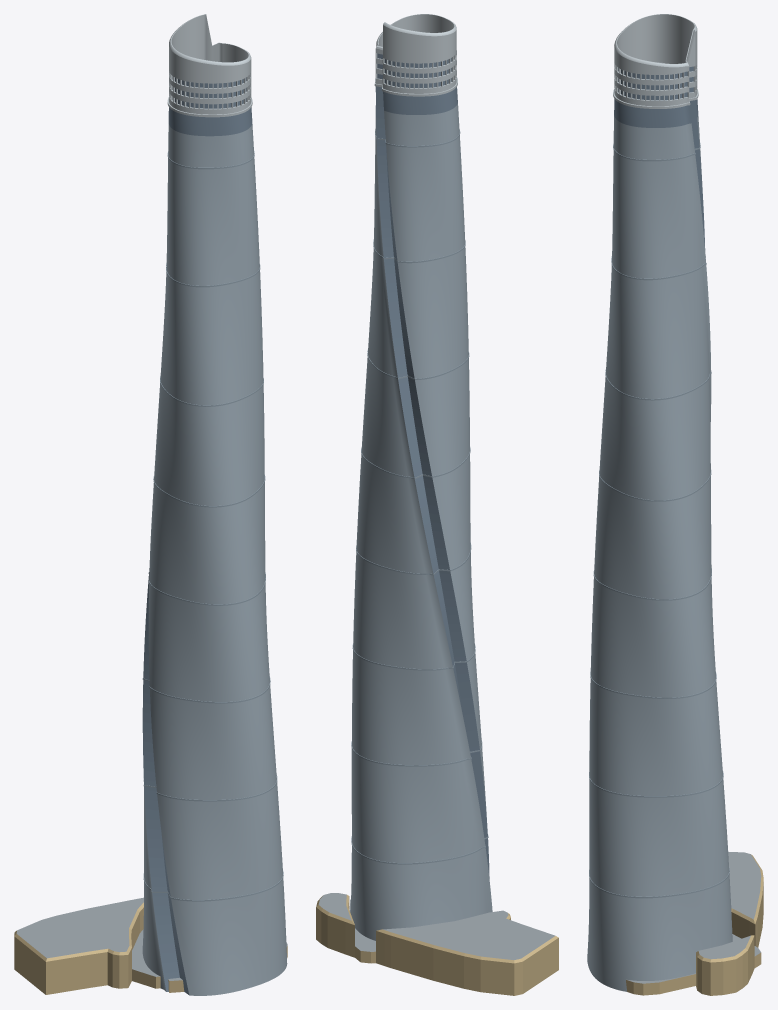
The model's file is shanghai-tower.detail.glb.
3 renders of one model, left to right at view 1: azimuth 30°, elevation 25°; view 2: azimuth 150°, elevation 25°; view 3: azimuth 270°, elevation 25°, orthographic. The views are drawn at different scales.
Parts seen in each view (by area): view 1: Shanghai Tower; view 2: Shanghai Tower; view 3: Shanghai Tower.
Part boxes in pixels (bbox=[...]): Shanghai Tower: bbox=[14, 14, 287, 995]; Shanghai Tower: bbox=[316, 14, 558, 995]; Shanghai Tower: bbox=[587, 14, 763, 995].
Size of the model in its own units: 159 by 632 by 108.
